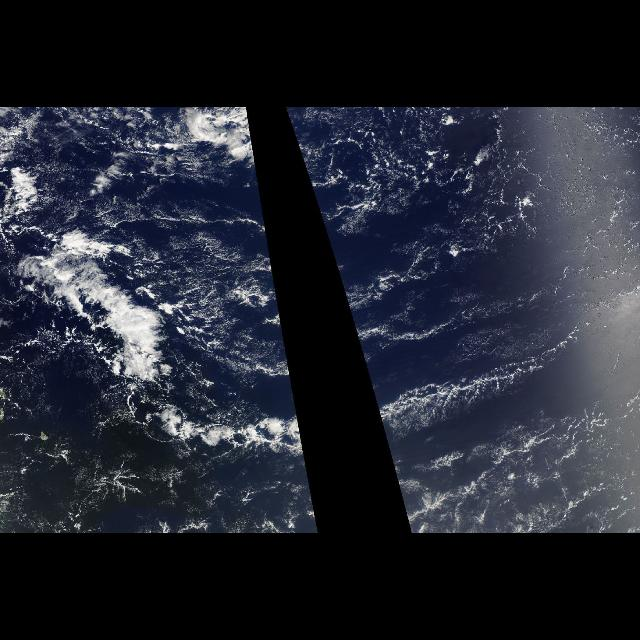Fish: (3, 176, 305, 450), (315, 203, 585, 449)
Sugar: (290, 122, 622, 372), (263, 207, 281, 319)
